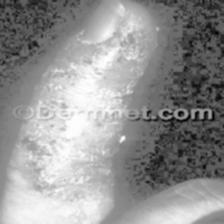Non-Cancerous Skin Condition: (57, 58, 124, 106), (20, 138, 68, 196)
